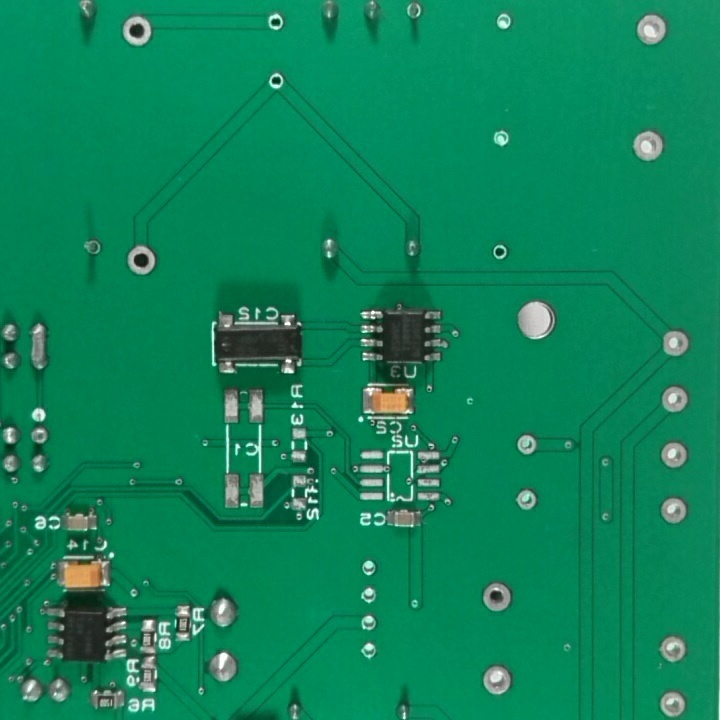F: (629, 126, 669, 165), (119, 11, 159, 50), (479, 578, 516, 617), (479, 661, 515, 700), (633, 11, 670, 48), (653, 440, 692, 474), (656, 630, 690, 669), (657, 383, 693, 418), (655, 686, 691, 720), (124, 242, 156, 279), (654, 495, 690, 527), (661, 326, 691, 359), (512, 486, 545, 514), (512, 430, 542, 458), (79, 236, 107, 262), (490, 125, 514, 151), (359, 638, 381, 666), (356, 611, 381, 635), (492, 9, 516, 33), (356, 583, 381, 606), (488, 240, 510, 266), (402, 2, 429, 23), (28, 424, 50, 449), (265, 12, 287, 35), (265, 72, 288, 93), (355, 558, 378, 578)
P: (27, 316, 52, 375)
